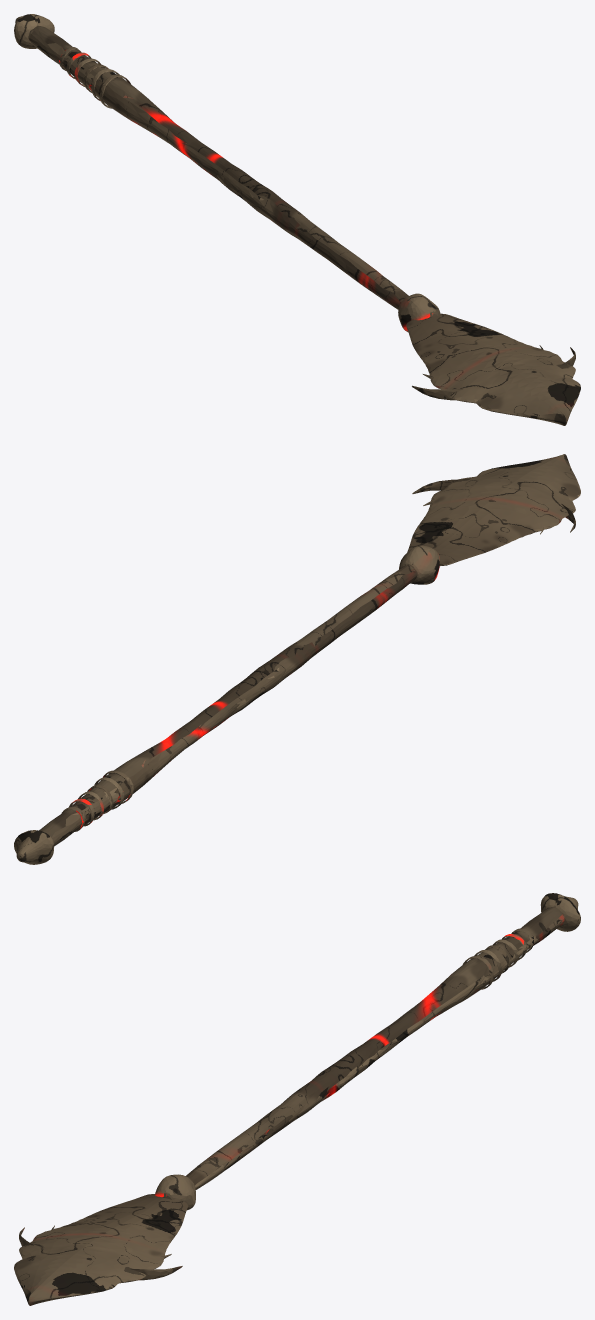
File: behest_banspere_lance.glb
3 views of the same model, one above another, from view 1: azimuth 30°, elevation 25°; view 2: azimuth 150°, elevation 25°; view 3: azimuth 330°, elevation 25° (orthographic).
Visible parts, largest first — view 1: behest_banspere_v3_lance; view 2: behest_banspere_v3_lance; view 3: behest_banspere_v3_lance.
Part boxes in pixels (x1,y1,x2,y2): behest_banspere_v3_lance: (14,14,580,425); behest_banspere_v3_lance: (14,454,580,864); behest_banspere_v3_lance: (14,893,580,1305).
Size of the model in its own units: 0.4149 by 0.0901 by 2.49.
1 material, 1 textured.
